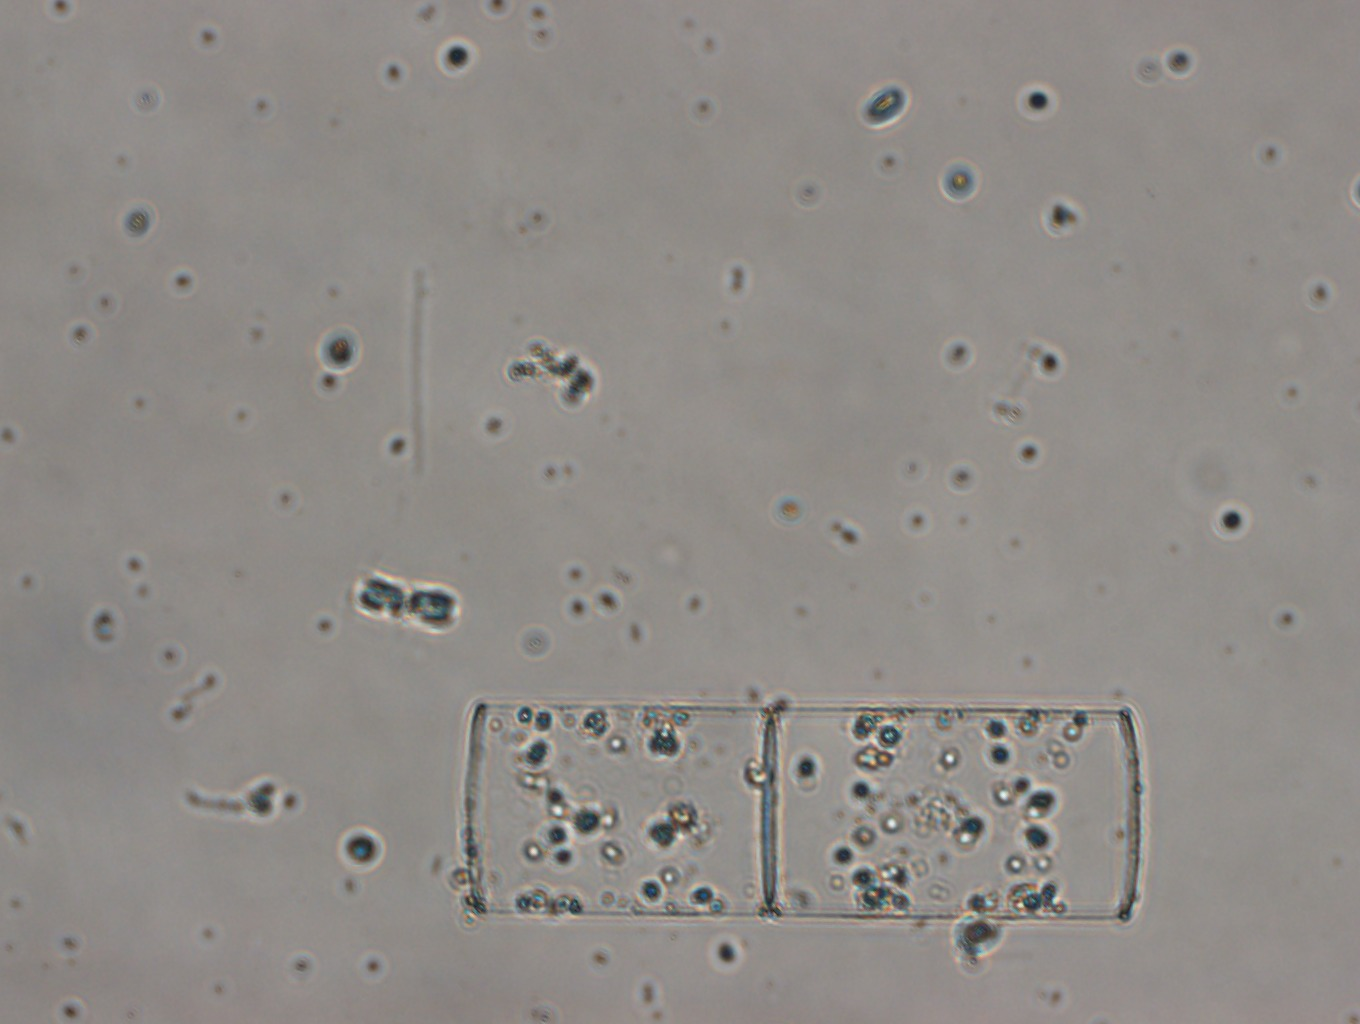guinardia flaccida: (459, 702, 1143, 922)
